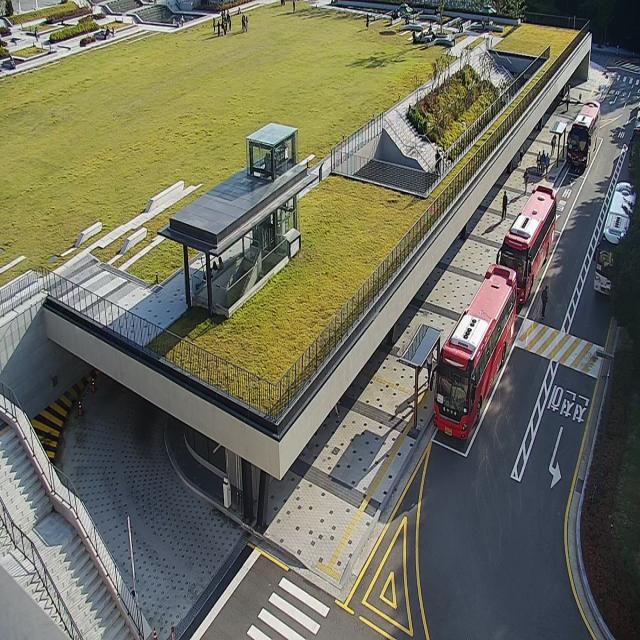queue: (416, 329, 440, 434)
